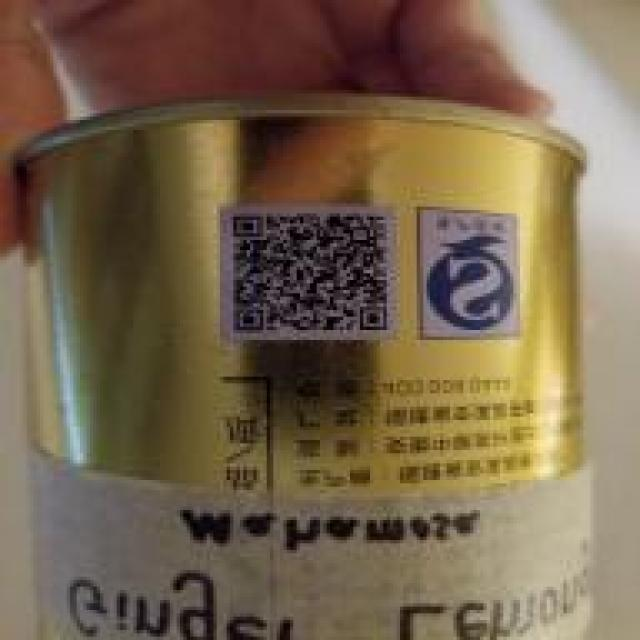qr_code: (231, 212, 388, 331)
